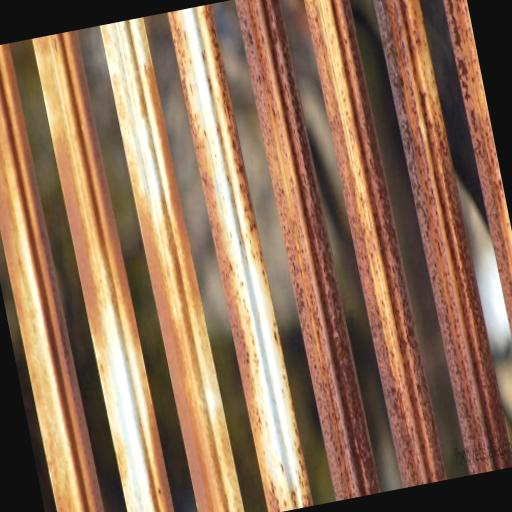segmentation: (236, 0, 378, 498), (32, 30, 174, 512), (304, 0, 445, 483), (374, 0, 512, 471), (167, 11, 279, 512), (0, 43, 103, 512), (144, 71, 243, 512), (443, 0, 512, 340), (196, 4, 246, 241)
